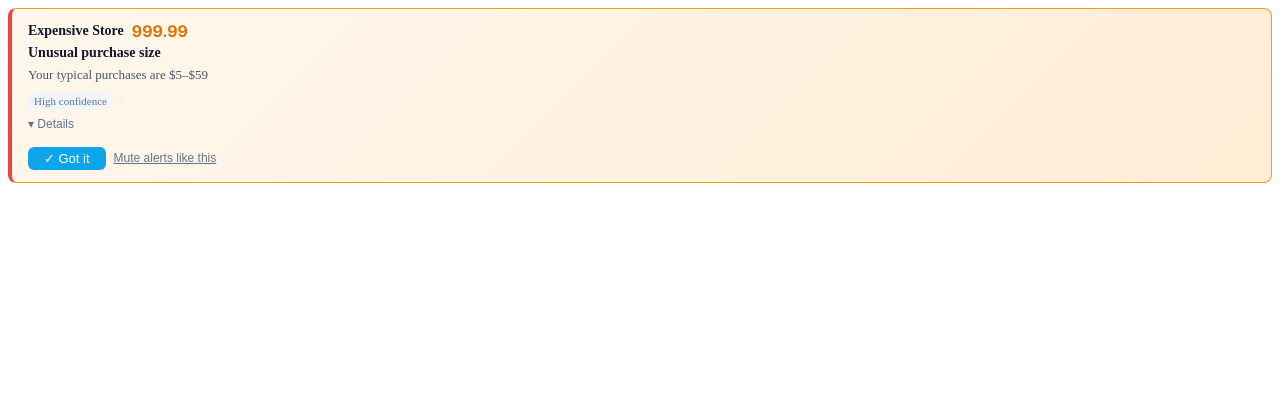
Scenario: AnomalyAlertItem — Details panel › should collapse details panel on second toggle click
The image size is (1280, 405).
Click the button with test id "anomaly-details-toggle". click: x=51, y=124
box: [28,112,1255,134]
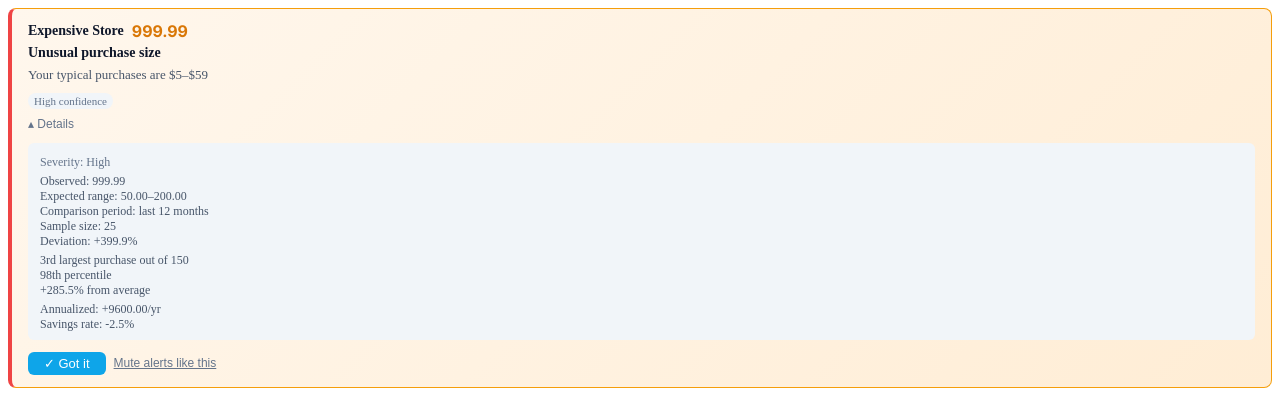
Expected: the element with test id "anomaly-details-panel" is shown, [28,142,1255,340]
Click the button with test id "anomaly-details-toggle". click: x=51, y=124
box: [28,112,1255,134]
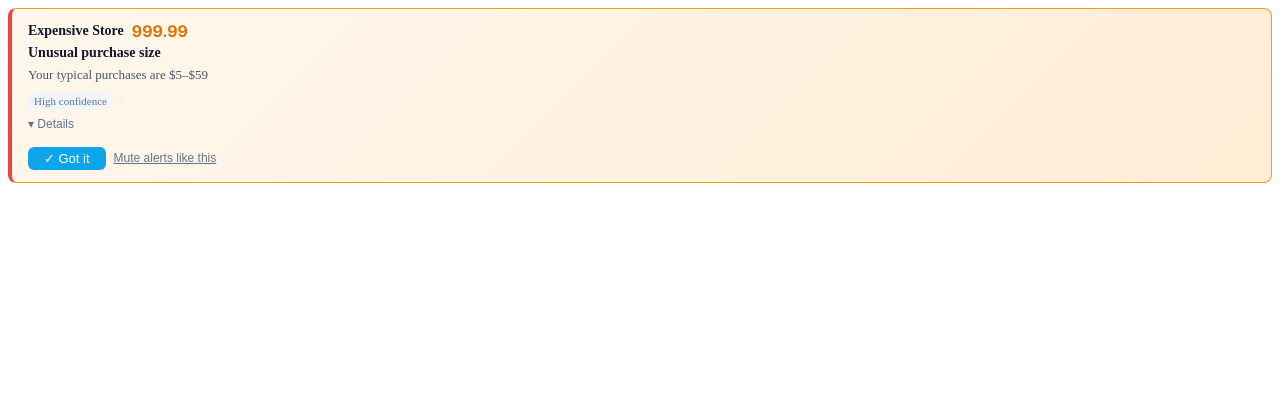
Expected: the element with test id "anomaly-details-panel" is gone
Expected: the button with test id "anomaly-details-toggle" is collapsed, [28,112,1255,134]
